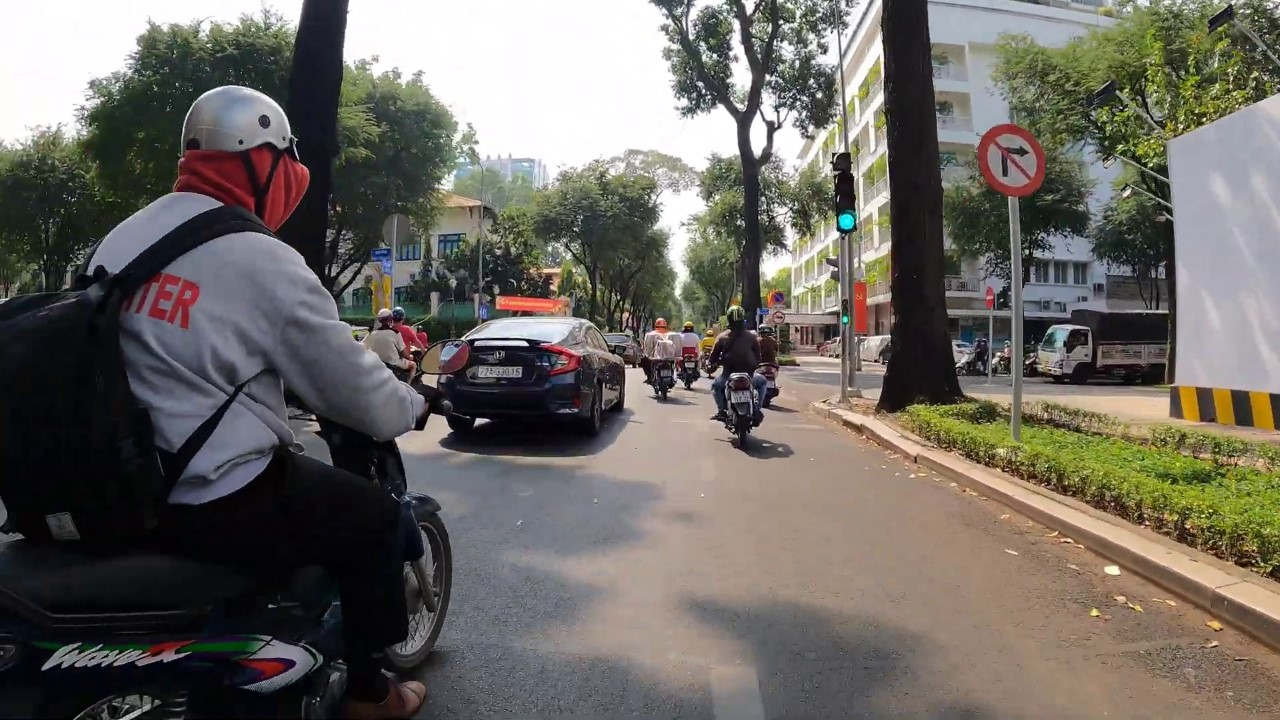cam_do_xe: (771, 290, 785, 305)
cam_re_phai: (976, 121, 1049, 200)
